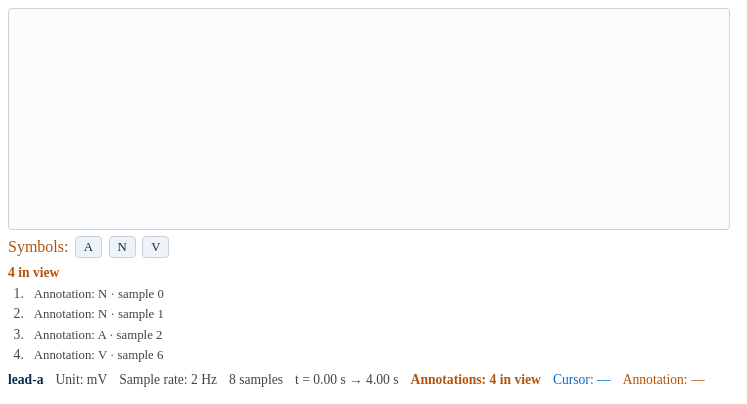
Test: TimeSeriesView (jsdom slice) › multi-symbol legend selection (Phase 17 item 2) › counts every event whose symbol is pressed, however many
What coordinates should you click on to do the following:
click the button "N"
I would click on:
 (122, 247)
Its box is [108, 236, 136, 258].
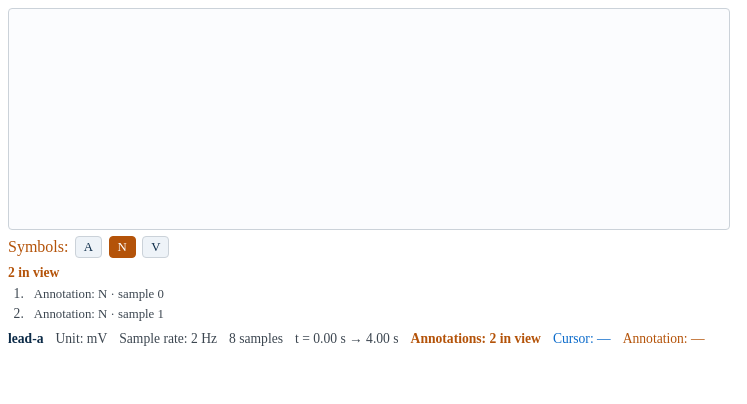
Expected: the text "Annotations: 2 in view" is shown, [411, 331, 541, 347]
What coordinates should you click on to do the following:
click the button "V"
I would click on:
 (156, 247)
Its box is [142, 236, 169, 258].
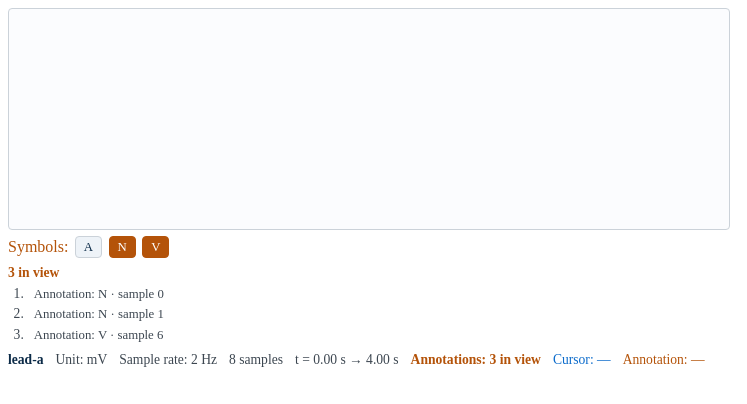
Expected: the text "Annotations: 3 in view" is shown, [411, 352, 541, 368]
